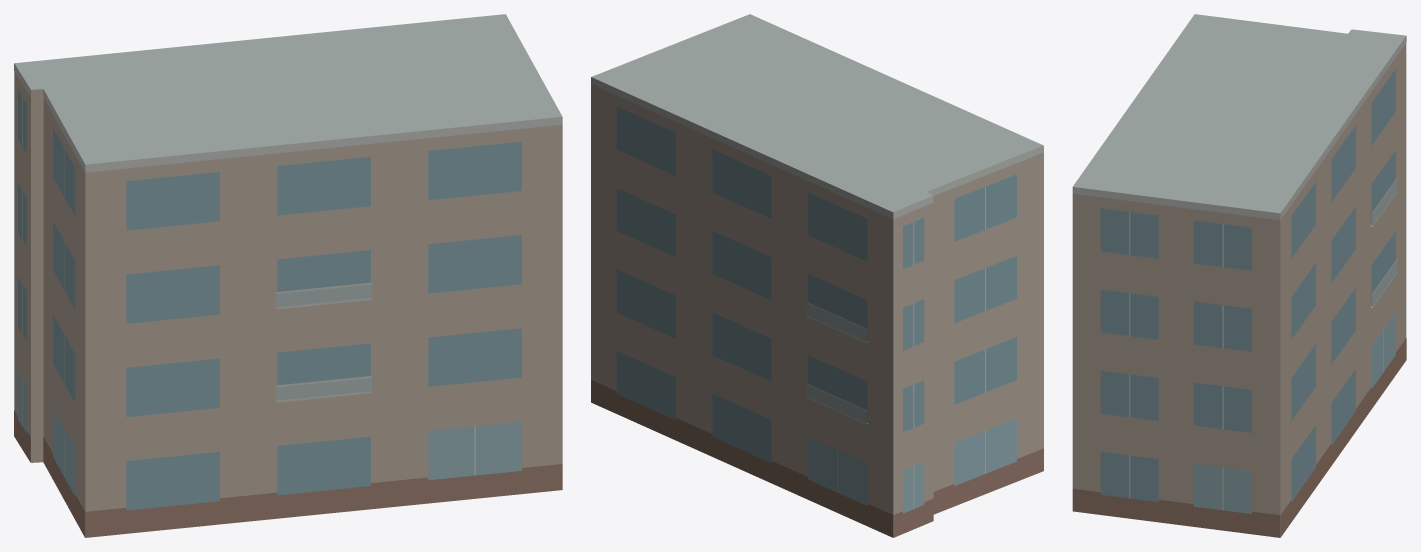
Rendered from survey-upis-32875839.glb.
3 renders of one model, left to right at view 1: azimuth 30°, elevation 25°; view 2: azimuth 150°, elevation 25°; view 3: azimuth 270°, elevation 25°, orthographic. The views are drawn at different scales.
Visible parts, largest first — view 1: survey-upis-32875839.tmp; view 2: survey-upis-32875839.tmp; view 3: survey-upis-32875839.tmp.
Boxes of the visible parts, x1,y1,x2,y2 form: survey-upis-32875839.tmp: [14, 14, 562, 537]; survey-upis-32875839.tmp: [591, 14, 1043, 537]; survey-upis-32875839.tmp: [1072, 14, 1406, 537].
Size of the model in its own units: 15.16 by 11.5 by 10.74.
